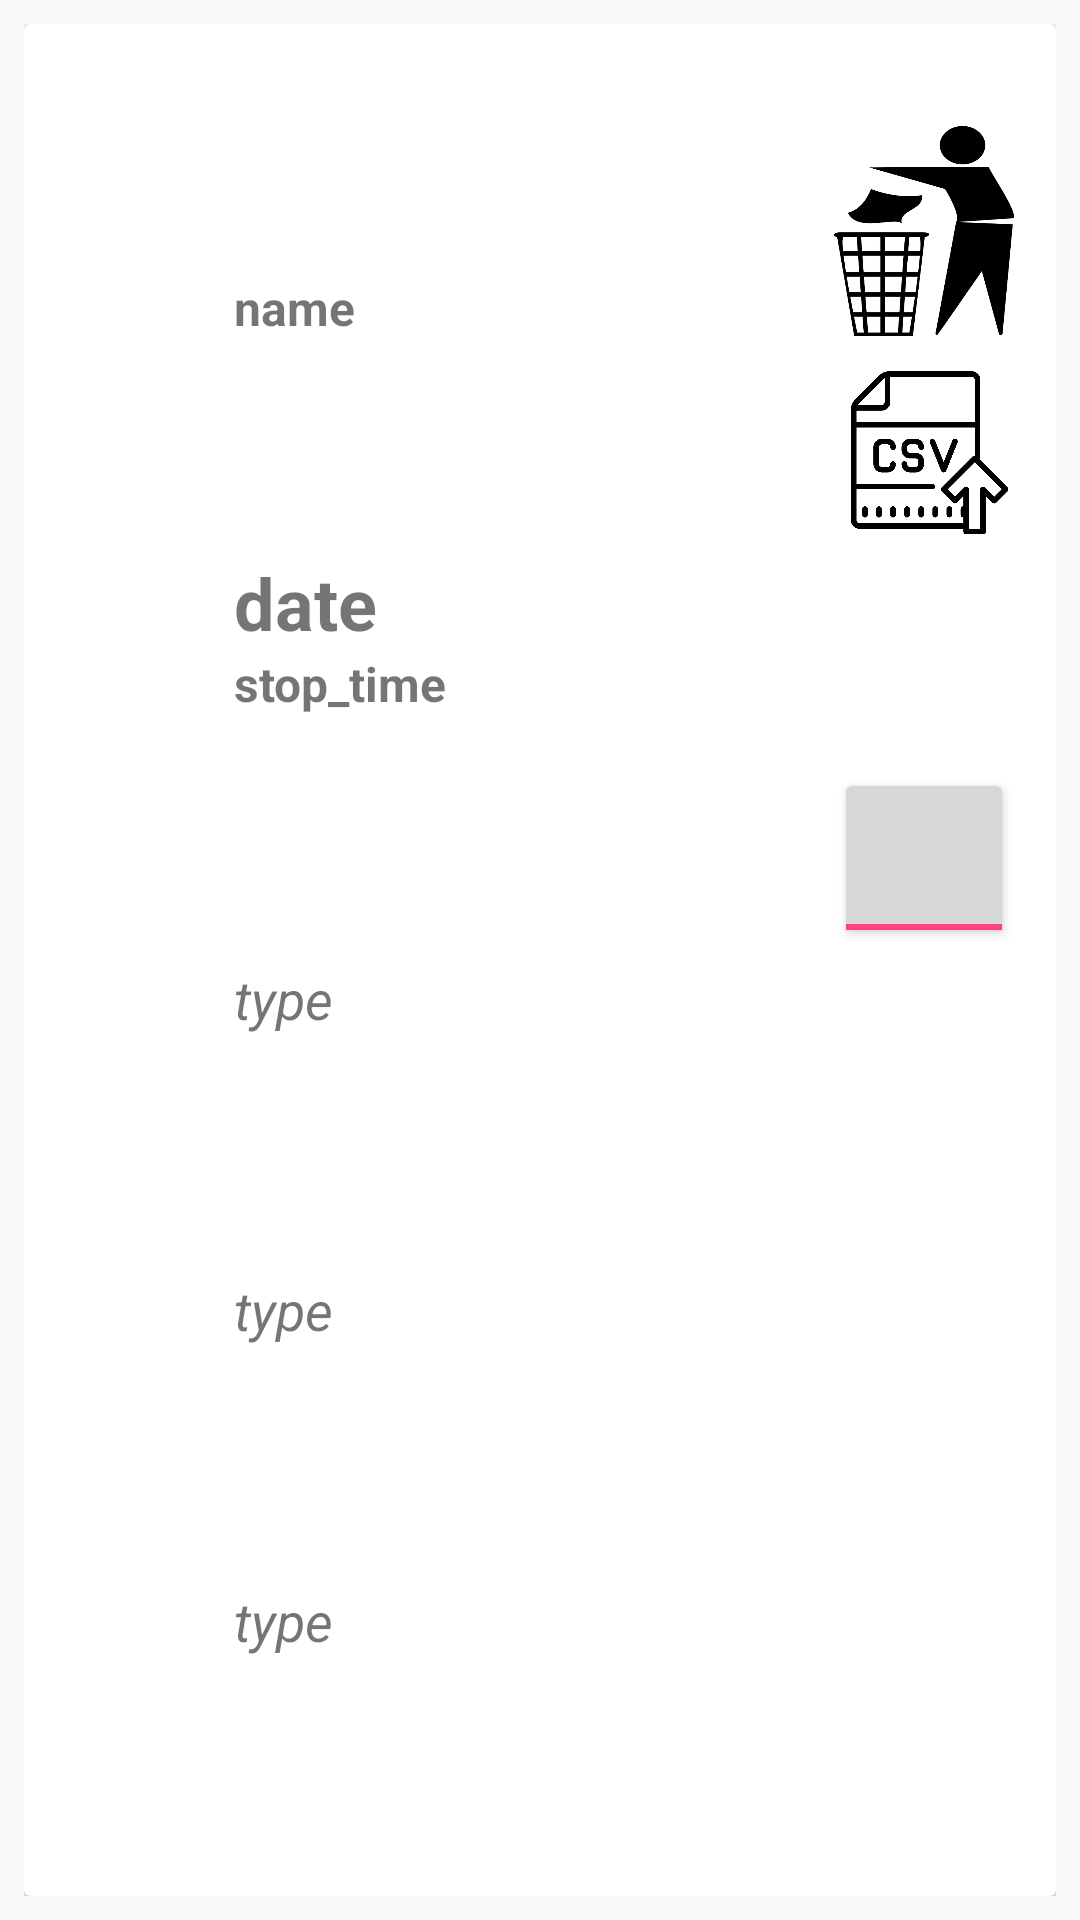

Screen size 1080 × 1920. Icon name, then its box in pixels as (x1, y1, x2, y2):
import csv: (851, 371, 1008, 534)
trashcan: (834, 126, 1014, 336)
